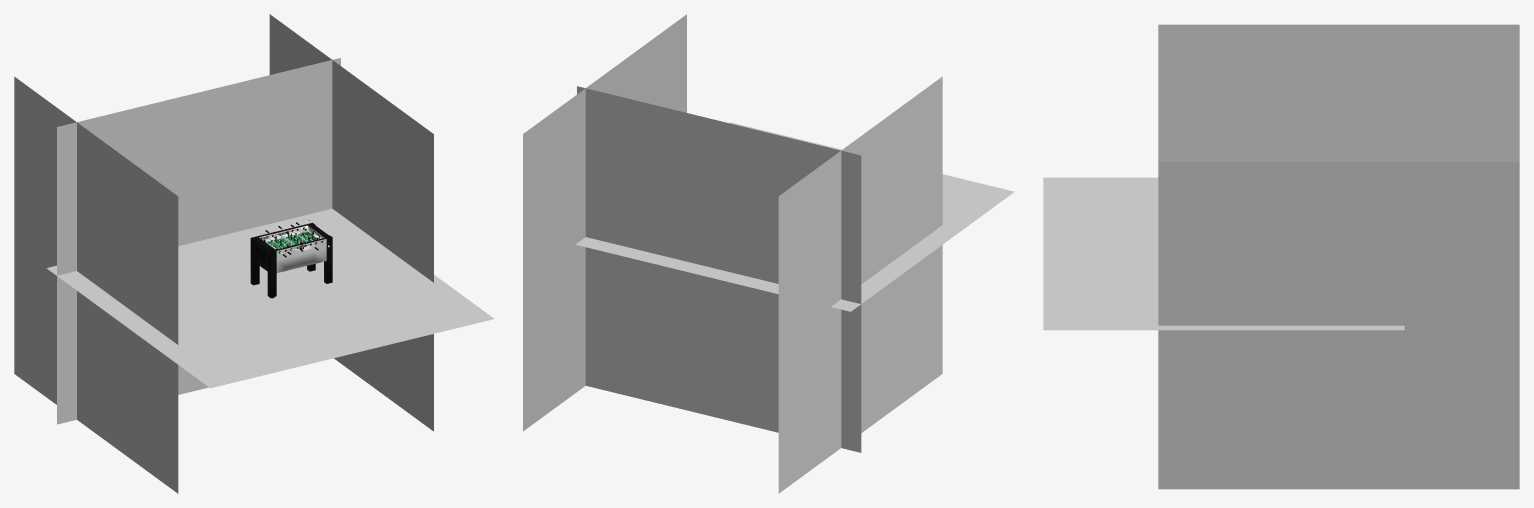
File: tischkickerv4_2.glb
The picture shows the model from 3 angles, left to right: view 1: azimuth 30°, elevation 25°; view 2: azimuth 150°, elevation 25°; view 3: azimuth 270°, elevation 25°; orthographic projection. The views are drawn at different scales.
Parts seen in each view (by area): view 1: Plane.003, Plane.001, Plane.042, Plane.002, kicker; view 2: Plane.001, Plane.003, Plane.002, Plane.042; view 3: Plane.002, Plane.003, Plane.042.
Part boxes in pixels (x1=…): Plane.003: x1=14, y1=76, x2=178, y2=493; Plane.001: x1=57, y1=58, x2=340, y2=424; Plane.042: x1=46, y1=208, x2=494, y2=388; Plane.002: x1=269, y1=14, x2=433, y2=431; kicker: x1=250, y1=222, x2=332, y2=297; Plane.001: x1=577, y1=86, x2=861, y2=452; Plane.003: x1=778, y1=76, x2=942, y2=493; Plane.002: x1=523, y1=14, x2=686, y2=431; Plane.042: x1=575, y1=122, x2=1014, y2=311; Plane.002: x1=1158, y1=162, x2=1519, y2=489; Plane.003: x1=1158, y1=24, x2=1519, y2=161; Plane.042: x1=1043, y1=177, x2=1404, y2=330.
Size of the model in its own units: 16.64 by 16.64 by 21.94.
100 materials, 1 textured.
